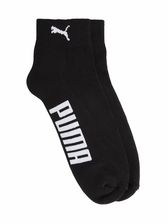sock: (28, 17, 146, 205)
